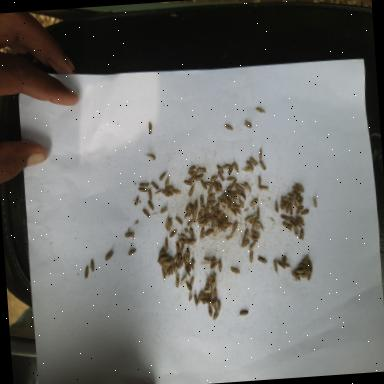pbw: (227, 220, 238, 236), (203, 271, 212, 289), (274, 256, 285, 270), (183, 242, 190, 264), (289, 219, 298, 236), (184, 264, 192, 283), (292, 180, 304, 192), (196, 162, 208, 174), (231, 201, 242, 214), (216, 212, 226, 226), (187, 183, 196, 198), (240, 227, 250, 240), (294, 189, 304, 202), (198, 226, 206, 242), (226, 206, 237, 217), (248, 155, 258, 167), (206, 190, 218, 200), (163, 173, 171, 188), (281, 220, 293, 230), (290, 214, 298, 228), (250, 216, 258, 230), (220, 215, 228, 229), (164, 214, 172, 228), (212, 180, 219, 196), (186, 237, 196, 248), (158, 170, 168, 181), (150, 180, 160, 191), (192, 198, 198, 216), (192, 292, 198, 310), (212, 224, 220, 237), (226, 163, 234, 176), (280, 254, 288, 267), (186, 164, 196, 174), (280, 212, 290, 222), (294, 204, 304, 214), (253, 219, 263, 229), (249, 228, 259, 238), (249, 196, 258, 207), (144, 152, 155, 161), (278, 200, 289, 209), (231, 158, 238, 172), (295, 214, 302, 228), (191, 206, 198, 220), (203, 256, 215, 264), (190, 256, 196, 272), (272, 259, 278, 275), (224, 190, 236, 198), (216, 162, 224, 174), (174, 216, 182, 228), (258, 158, 266, 170), (206, 183, 214, 195), (198, 192, 204, 208), (164, 234, 170, 250), (183, 178, 195, 186), (204, 210, 216, 218), (198, 178, 206, 190), (188, 226, 195, 239), (240, 238, 249, 248), (186, 217, 196, 226), (194, 172, 204, 181), (104, 250, 113, 260), (234, 182, 244, 191), (209, 172, 219, 181), (291, 270, 300, 280), (168, 228, 178, 237), (141, 208, 150, 218), (204, 228, 214, 237), (290, 185, 300, 194), (206, 201, 214, 212), (216, 170, 224, 181), (220, 161, 231, 169), (280, 261, 292, 268), (177, 256, 184, 268), (174, 274, 180, 288), (166, 220, 173, 232), (196, 208, 203, 220), (146, 186, 152, 200), (298, 226, 304, 240), (206, 302, 212, 316), (178, 242, 184, 256), (243, 180, 250, 192), (152, 189, 162, 197), (248, 234, 258, 242), (187, 174, 197, 182), (244, 118, 252, 128), (172, 251, 180, 261), (158, 246, 166, 256), (257, 256, 267, 264), (200, 292, 210, 300), (178, 277, 188, 285), (230, 266, 240, 274), (210, 296, 218, 306), (147, 200, 154, 211), (255, 106, 266, 113), (237, 196, 244, 207), (242, 164, 253, 171), (173, 262, 178, 277), (196, 291, 202, 303), (234, 186, 243, 194), (184, 281, 192, 290), (162, 266, 170, 275), (210, 269, 216, 281), (179, 232, 188, 240), (174, 240, 180, 252), (244, 214, 253, 222), (216, 178, 222, 190), (127, 247, 136, 255), (213, 215, 219, 227), (249, 240, 256, 250), (187, 202, 192, 216), (280, 195, 290, 202), (212, 309, 219, 319), (204, 180, 214, 187), (217, 258, 222, 272), (224, 194, 229, 208), (204, 216, 214, 223), (134, 195, 140, 206), (195, 216, 206, 222), (287, 191, 293, 202), (298, 214, 304, 225), (248, 249, 253, 262), (89, 258, 94, 271), (245, 160, 253, 168), (248, 216, 256, 224), (218, 198, 226, 206), (224, 122, 232, 130), (212, 204, 220, 212), (188, 276, 195, 285), (205, 198, 215, 204), (160, 260, 170, 266), (171, 188, 181, 194), (220, 222, 232, 227), (210, 279, 215, 291), (294, 197, 300, 207), (160, 188, 170, 194), (214, 209, 224, 215), (238, 309, 248, 315), (159, 255, 169, 261), (164, 184, 174, 190), (188, 170, 198, 176), (308, 258, 312, 272), (225, 233, 233, 240), (274, 198, 278, 212), (225, 183, 232, 191), (159, 206, 167, 213), (162, 266, 166, 280), (258, 174, 262, 188), (136, 182, 150, 186), (258, 146, 262, 160), (216, 298, 220, 312), (255, 208, 260, 219), (201, 203, 206, 214), (137, 187, 148, 192), (296, 262, 305, 268), (148, 121, 152, 134), (230, 204, 240, 209), (124, 232, 134, 237), (188, 288, 192, 300), (300, 208, 308, 214), (289, 202, 293, 214), (240, 192, 246, 200), (204, 206, 210, 214), (306, 272, 312, 280), (170, 260, 174, 272), (190, 204, 194, 216), (84, 266, 88, 278), (295, 268, 304, 273), (259, 184, 268, 189), (296, 272, 305, 277), (168, 265, 173, 274), (197, 222, 206, 227), (225, 176, 236, 180), (312, 196, 316, 207), (182, 238, 189, 244), (302, 254, 309, 260), (285, 204, 290, 212), (163, 192, 173, 196), (202, 288, 212, 292), (184, 204, 190, 210), (303, 268, 312, 272), (304, 261, 309, 268), (301, 259, 308, 264), (178, 237, 183, 244), (227, 196, 231, 203), (172, 258, 175, 267), (170, 257, 172, 267)
